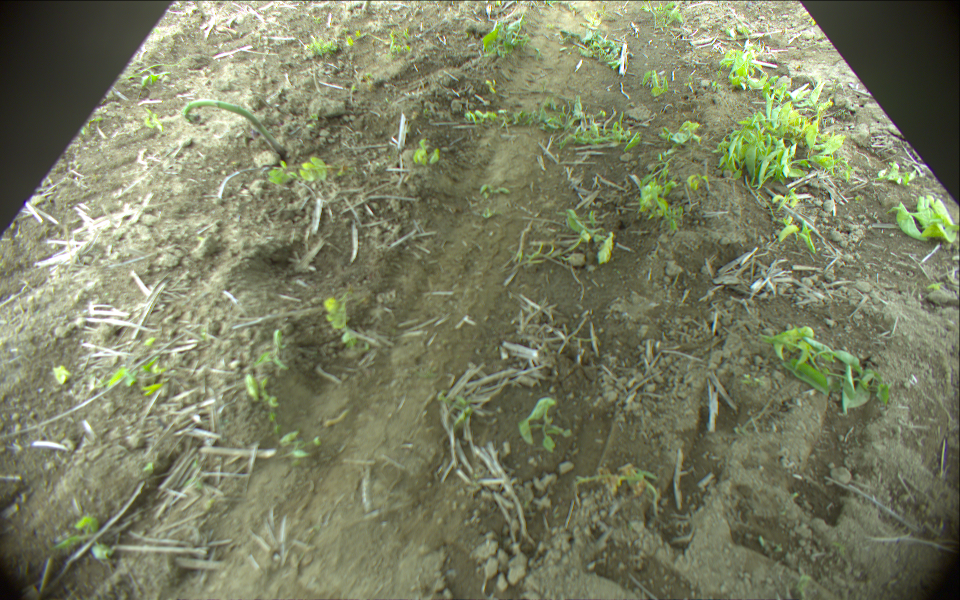aspa: (179, 98, 286, 157)
